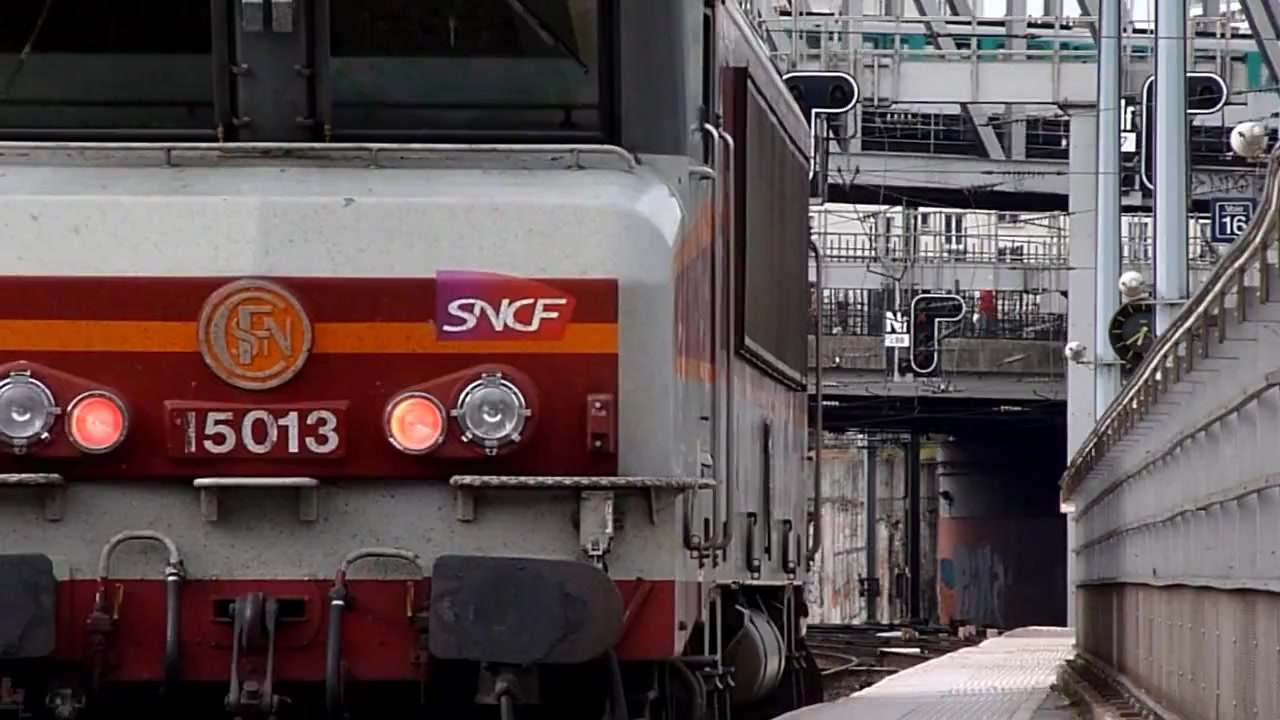train: (1, 1, 821, 720)
